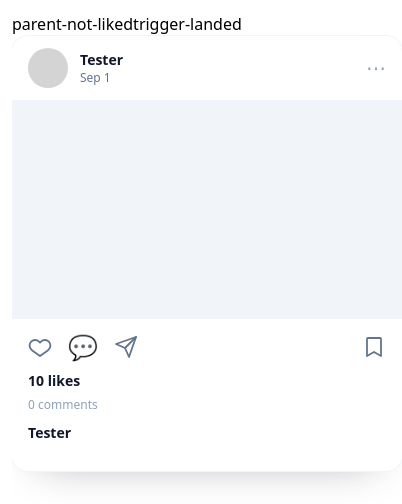
it: PostCard like, integrated with the real hook and a Feed-like parent › moves the heart, the count and the parent's set before the response
Expected: the text with test id "parent-liked" reads "parent-not-liked", x1=12 y1=13 x2=133 y2=35
What coordinates should you click on to do the following:
click the button named "Like"
I would click on:
 (40, 347)
Its box is x1=28 y1=335 x2=52 y2=359.
Wait 3000 ms
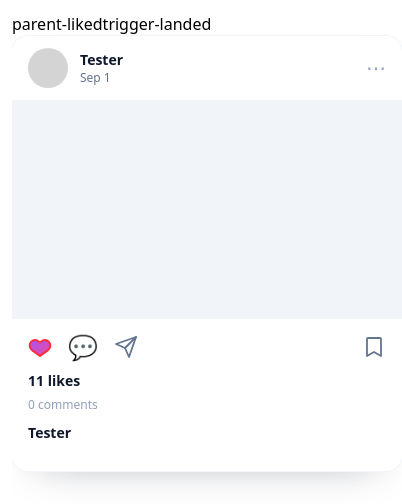
Now the text with test id "parent-liked" reads "parent-liked", box x1=12 y1=13 x2=103 y2=35
